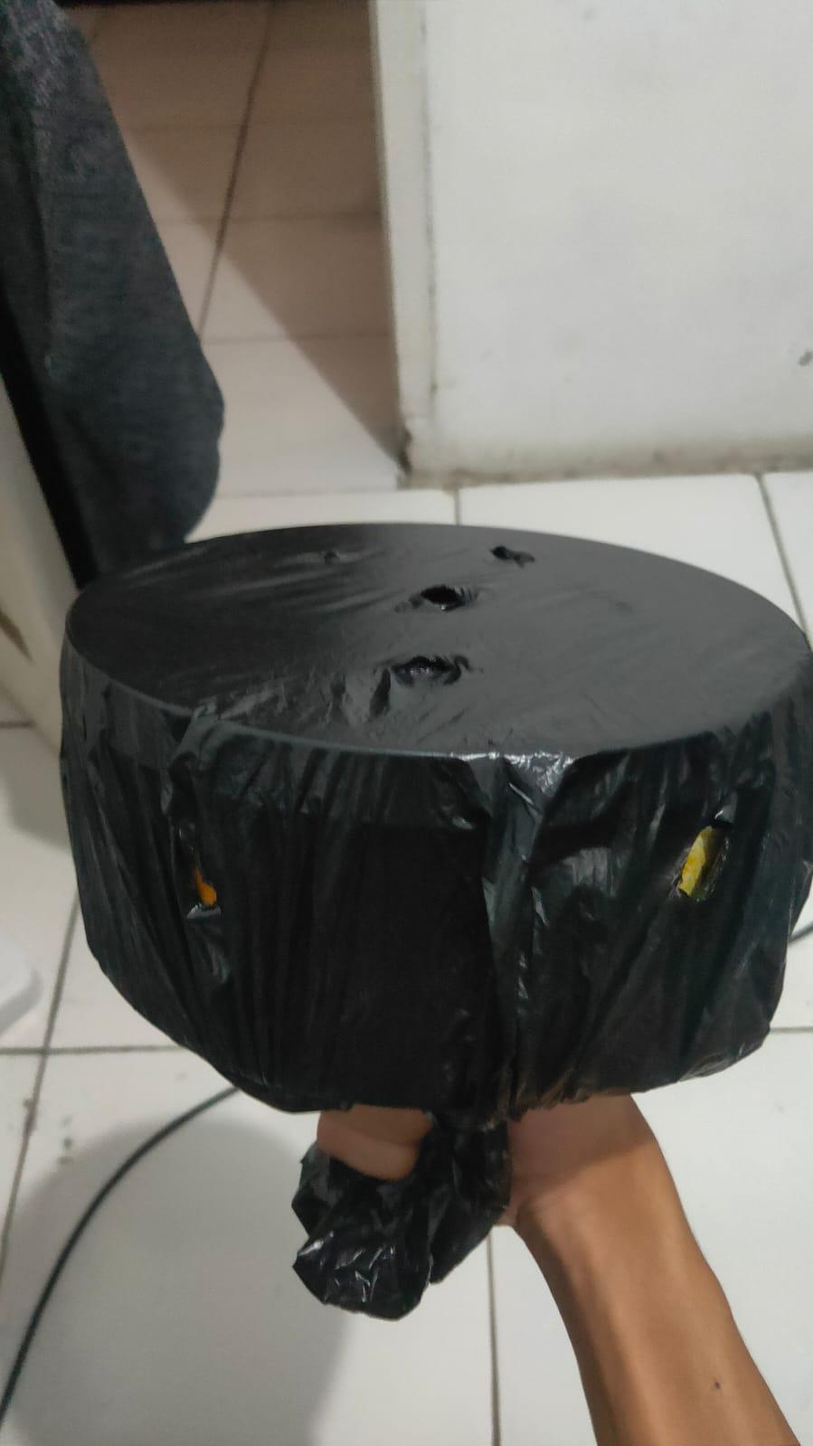damaged package: (669, 813, 741, 899), (176, 835, 216, 917), (389, 655, 456, 675), (416, 584, 464, 609), (491, 543, 534, 565), (321, 547, 341, 564)
undamaged: (41, 507, 811, 1133)
